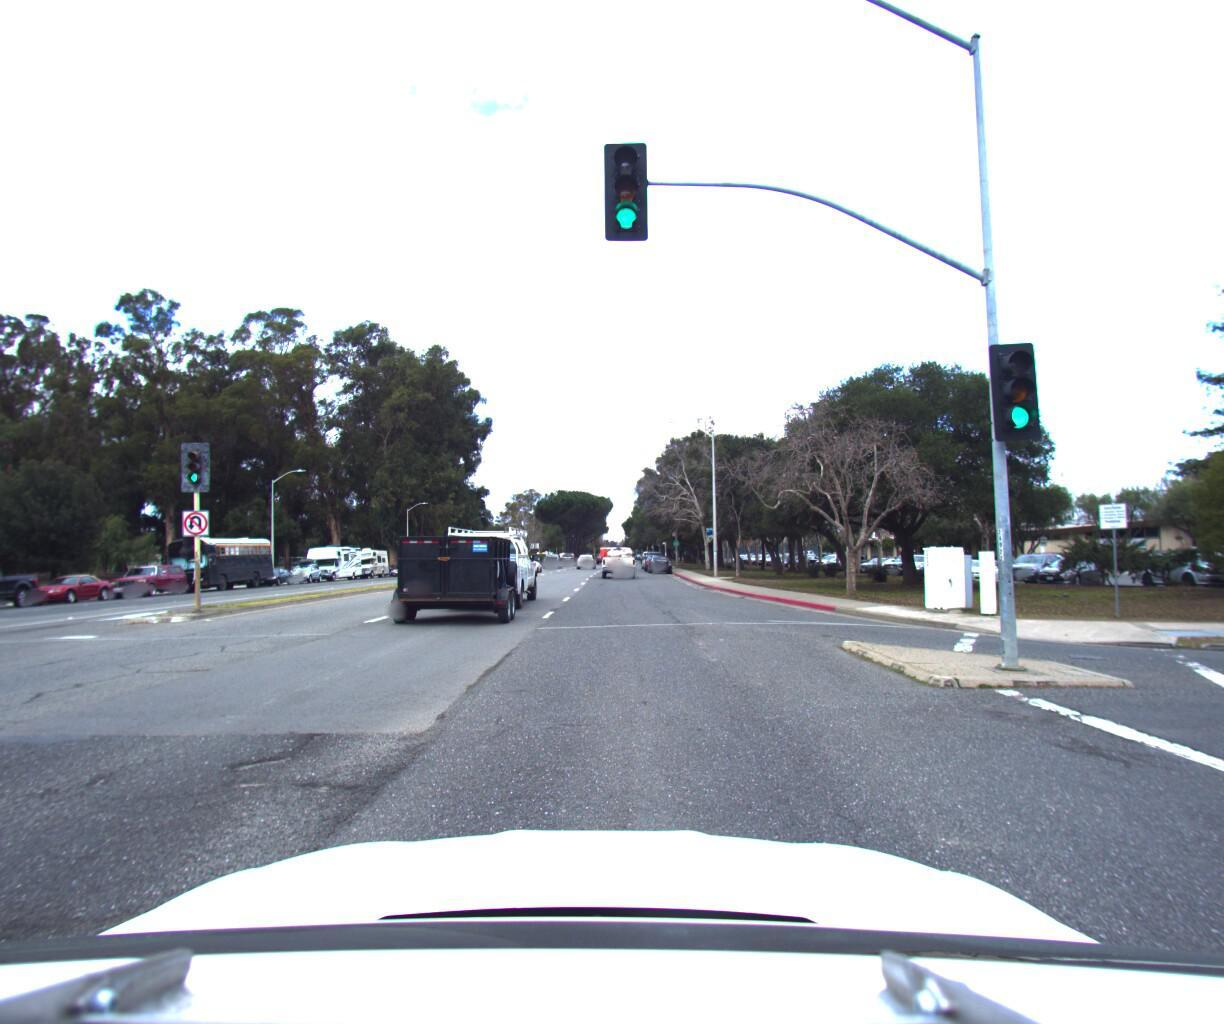bus: (159, 525, 281, 586)
car: (384, 505, 551, 624), (22, 563, 124, 598), (107, 555, 194, 592), (596, 536, 635, 573), (283, 550, 329, 576), (253, 558, 300, 579), (645, 545, 673, 565), (574, 544, 596, 561)
other_vehicle: (302, 535, 367, 574), (346, 538, 393, 571)
